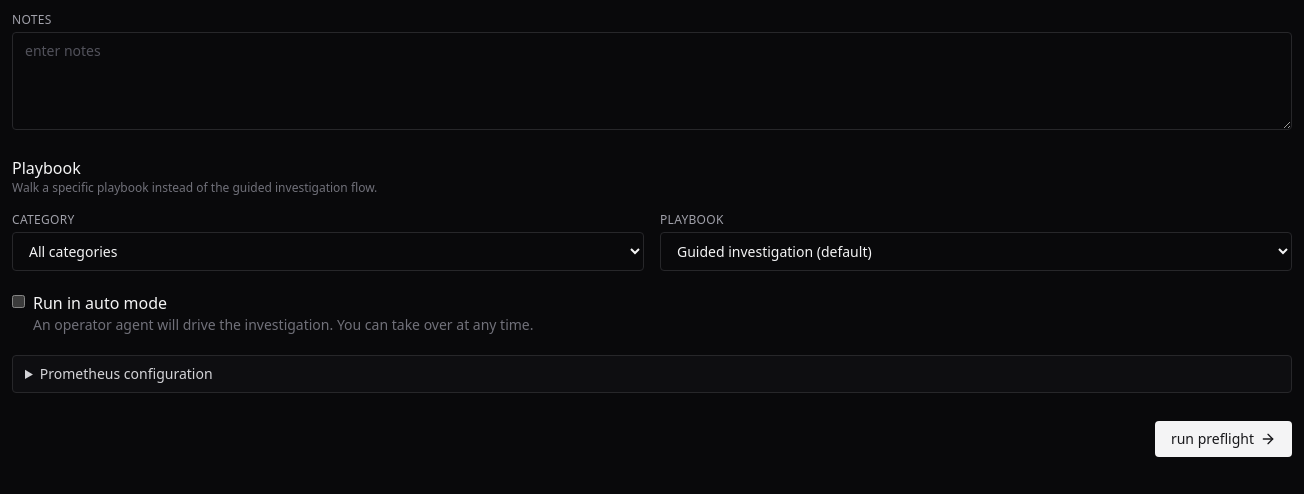
it: InvestigationForm › playbook selection › filters playbooks by category and describes both picks
The image size is (1304, 494).
Select "general" in the dropdown labelled "Category": (328, 252) [12,232,644,271]
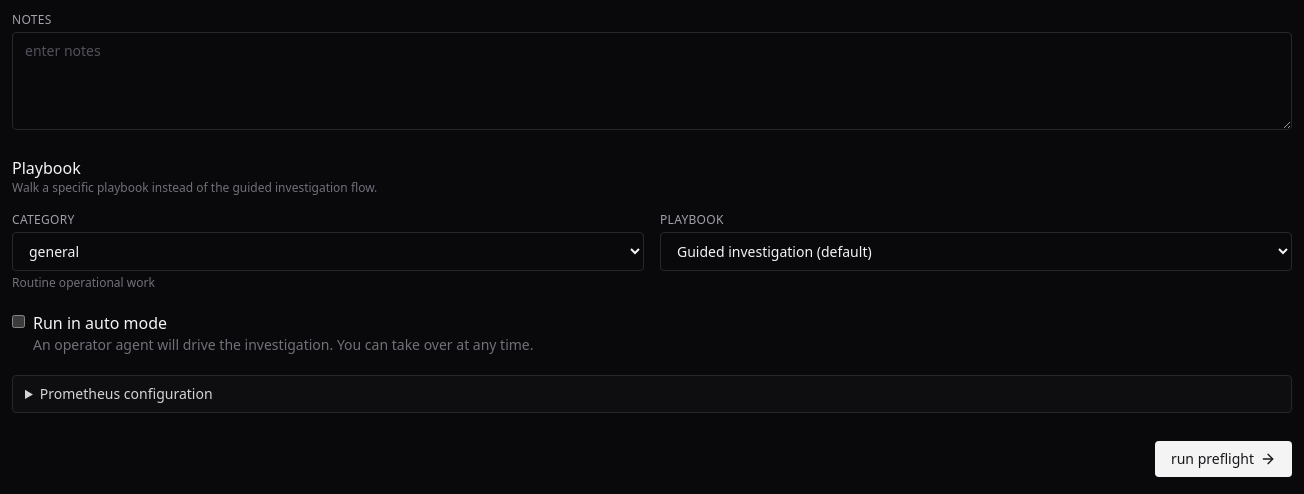
Result: the text "Routine operational work" is shown at [12,274,155,291]
Select "release_verification" in the dropdown labelled "Playbook": (976, 252) [660,232,1292,271]
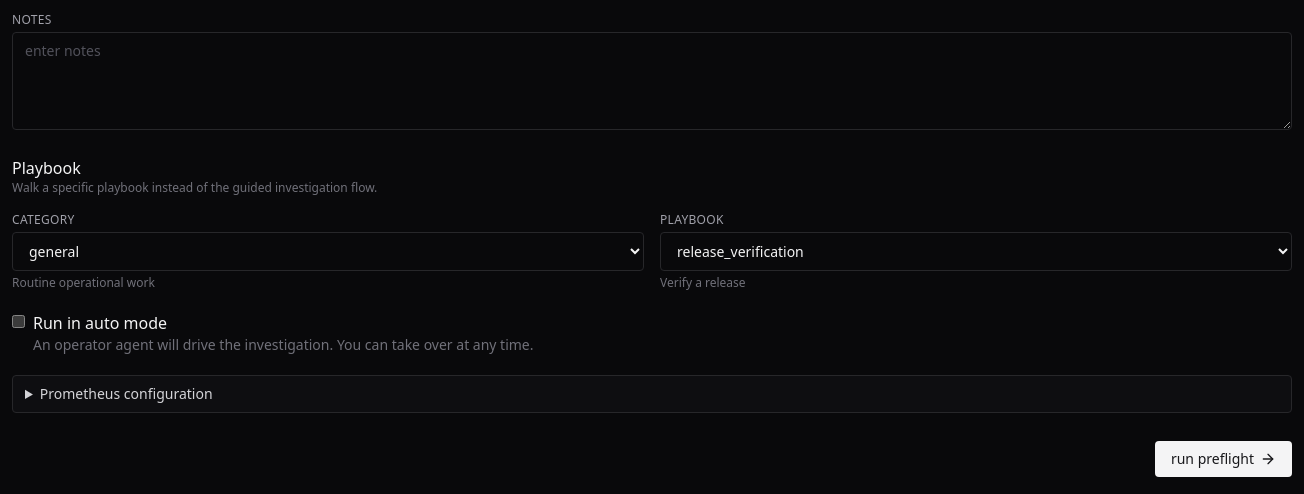
Result: the text "Verify a release" is shown at [660,274,746,291]
